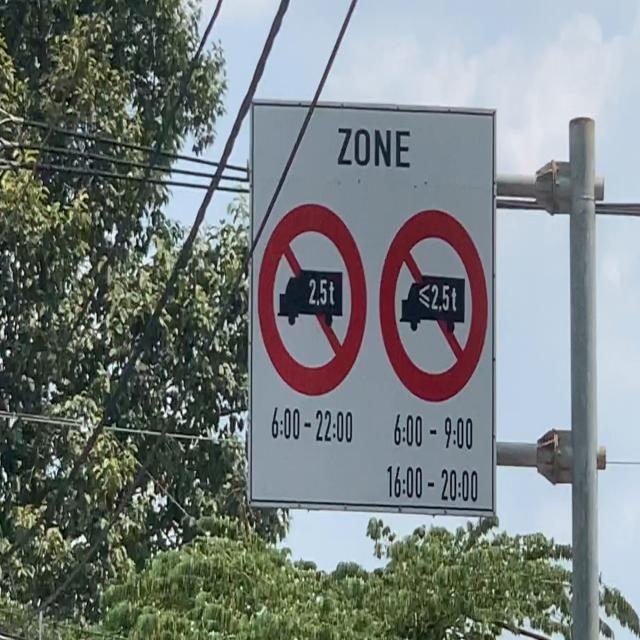Cam con lai: (255, 198, 373, 397), (378, 204, 488, 400)
